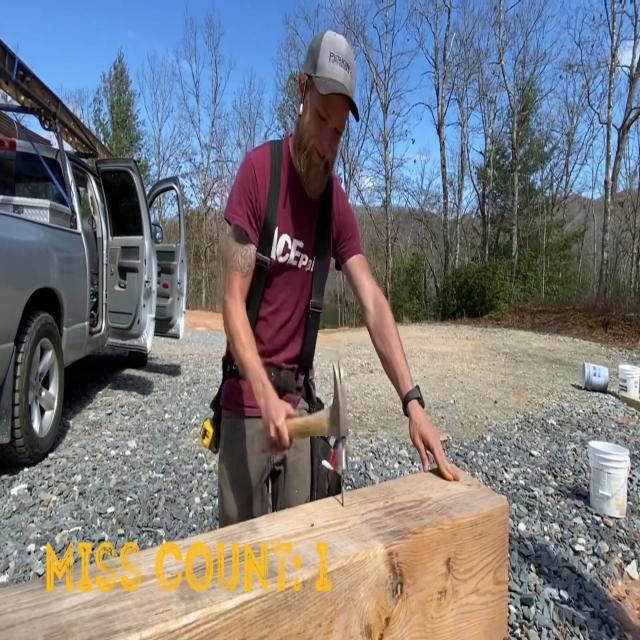hammer: (286, 360, 348, 471)
